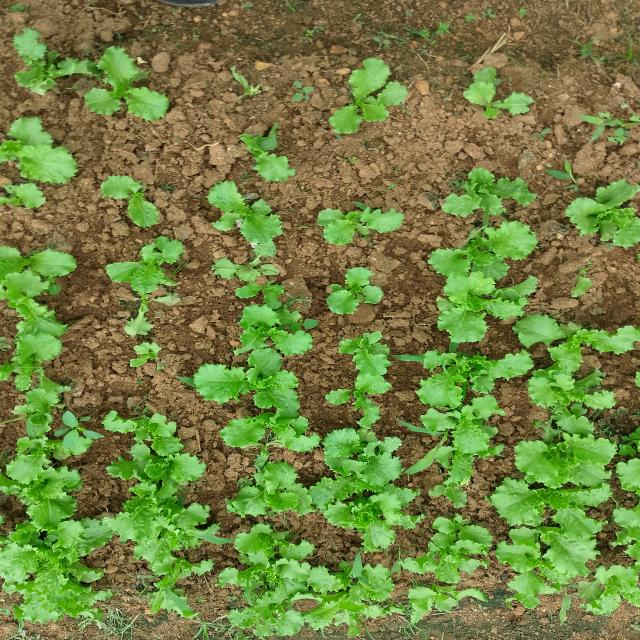Lettuce: (6, 531, 105, 613), (82, 40, 173, 129), (0, 113, 81, 208), (331, 54, 413, 138), (193, 188, 299, 252), (0, 234, 82, 314), (438, 162, 538, 227), (562, 174, 640, 253), (189, 354, 316, 402), (240, 556, 328, 625), (0, 450, 89, 518), (330, 487, 417, 552), (318, 192, 413, 251), (96, 236, 176, 305), (94, 168, 170, 233), (462, 64, 537, 128), (8, 296, 75, 366), (435, 274, 496, 346), (512, 530, 598, 581), (231, 460, 307, 516), (234, 122, 299, 186), (324, 262, 386, 321), (139, 564, 195, 616), (578, 102, 640, 146), (431, 463, 477, 508)
